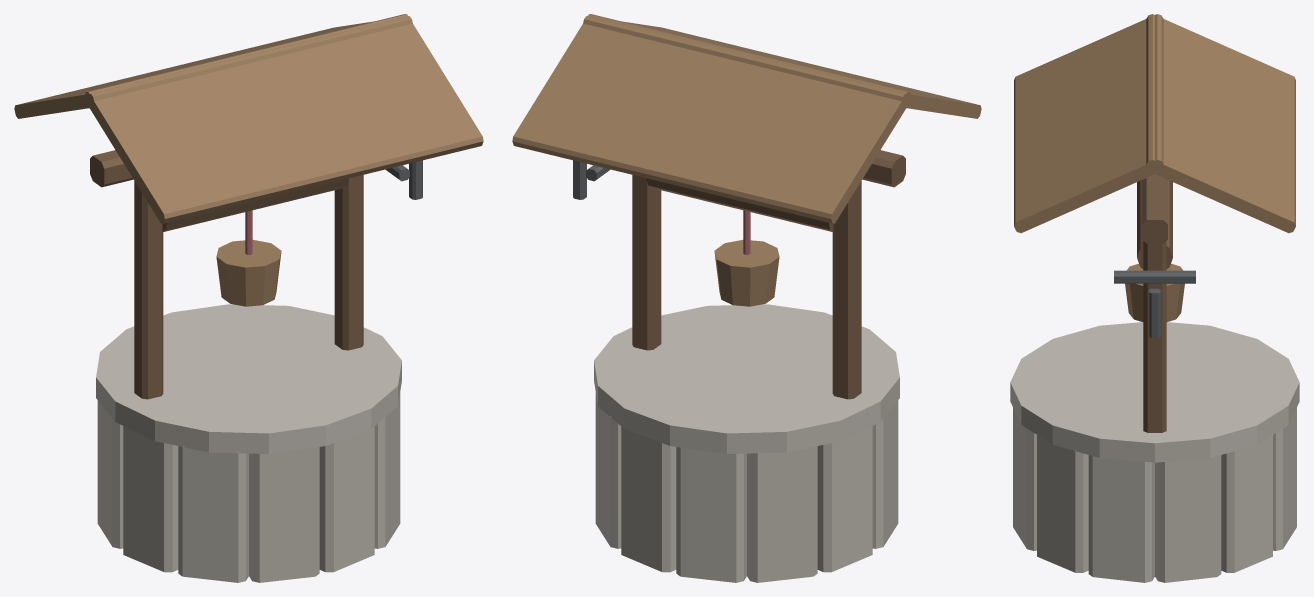
Rendered from well.glb.
3 views of the same model, side by side, from view 1: azimuth 30°, elevation 25°; view 2: azimuth 150°, elevation 25°; view 3: azimuth 270°, elevation 25° (orthographic). The views are drawn at different scales.
Parts seen in each view (by area): view 1: well; view 2: well; view 3: well.
Boxes of the visible parts, left/top/right/bottom form: well: left=14, top=14, right=483, bottom=582; well: left=512, top=14, right=981, bottom=582; well: left=1010, top=14, right=1299, bottom=582.
Size of the model in its own units: 2.18 by 2.93 by 1.76.
